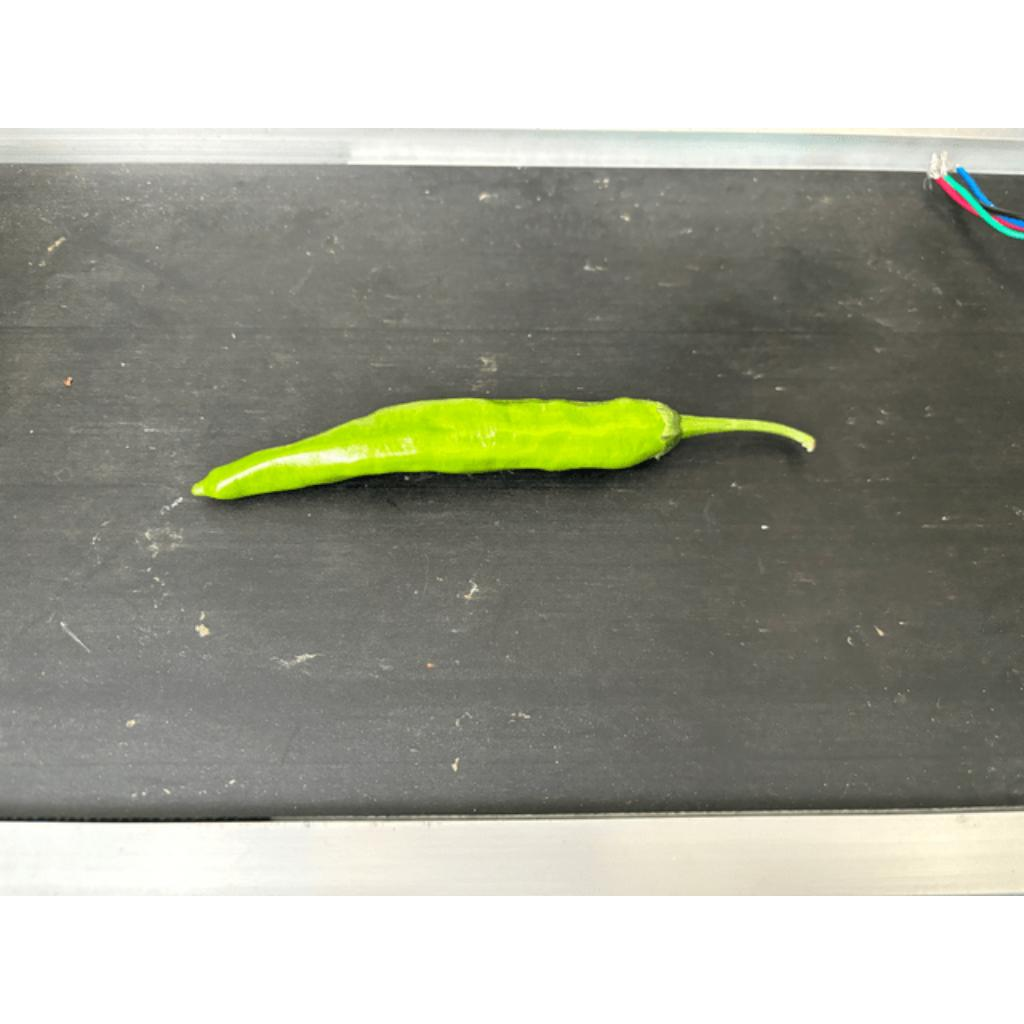chili: (189, 398, 685, 501)
